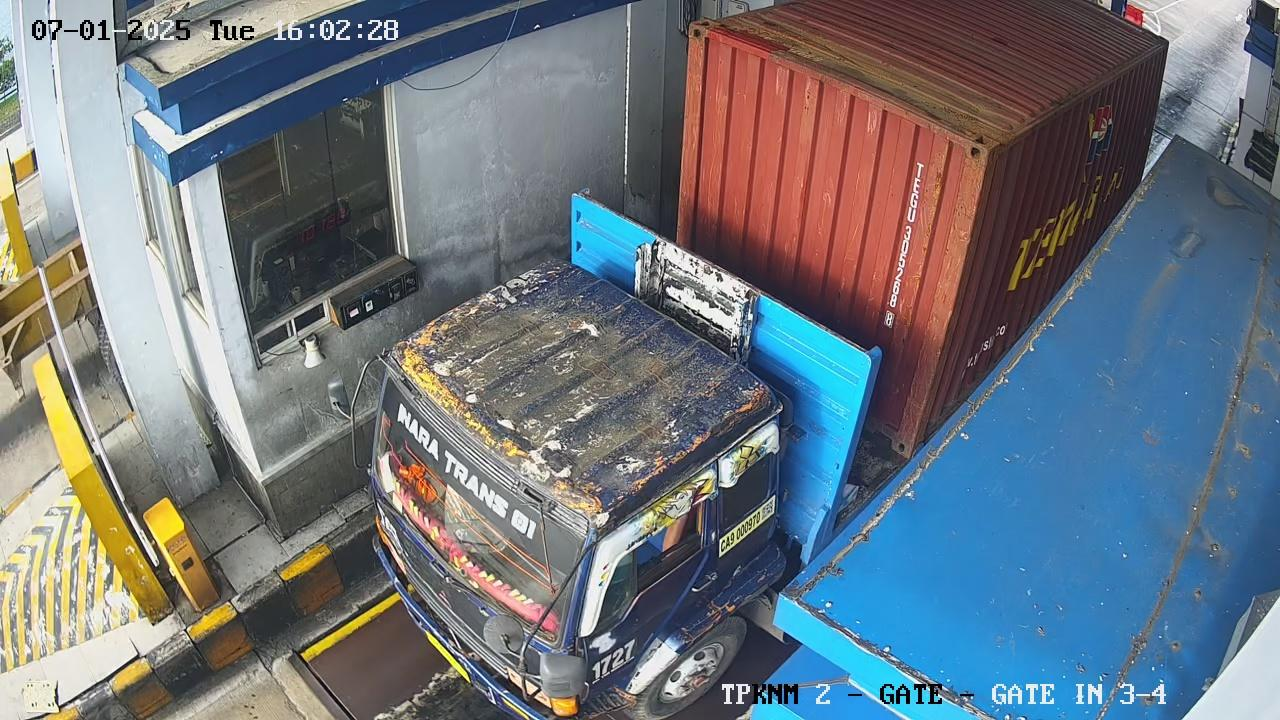Container_ID_Vertikal: (879, 160, 928, 328)
truck_id: (709, 492, 785, 558)
